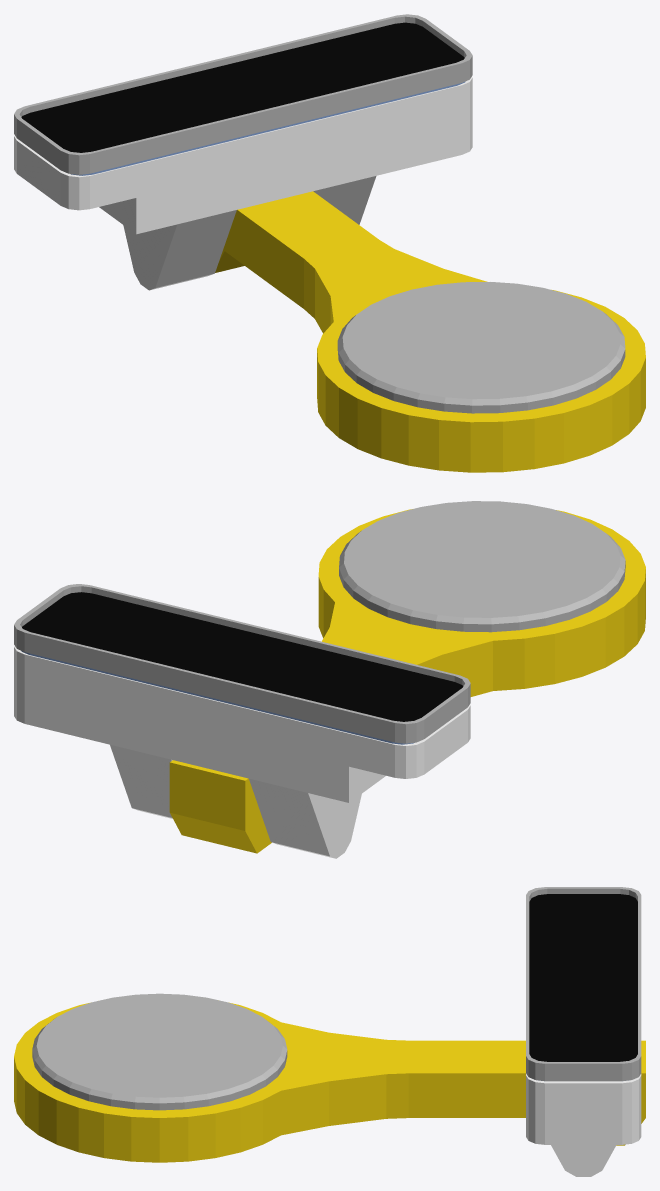
File: onrobot_eyes_low_poly.dae
3 views of the same model, one above another, from view 1: azimuth 30°, elevation 25°; view 2: azimuth 150°, elevation 25°; view 3: azimuth 270°, elevation 25° (orthographic). The views are drawn at different scales.
Parts seen in each view (by area): view 1: CameraHousing, MainBody, MainMount; view 2: CameraHousing, MainMount, MainBody; view 3: MainBody, CameraHousing, MainMount.
Boxes of the visible parts, bbox=[...] form: CameraHousing: bbox=[14, 14, 472, 290]; MainBody: bbox=[215, 191, 645, 472]; MainMount: bbox=[337, 282, 625, 413]; CameraHousing: bbox=[14, 584, 470, 858]; MainMount: bbox=[339, 501, 625, 632]; MainBody: bbox=[169, 509, 645, 853]; MainBody: bbox=[14, 1002, 645, 1162]; CameraHousing: bbox=[526, 887, 641, 1176]; MainMount: bbox=[32, 993, 287, 1110].
Size of the model in its own units: 0.1036 by 0.1566 by 0.0432.
